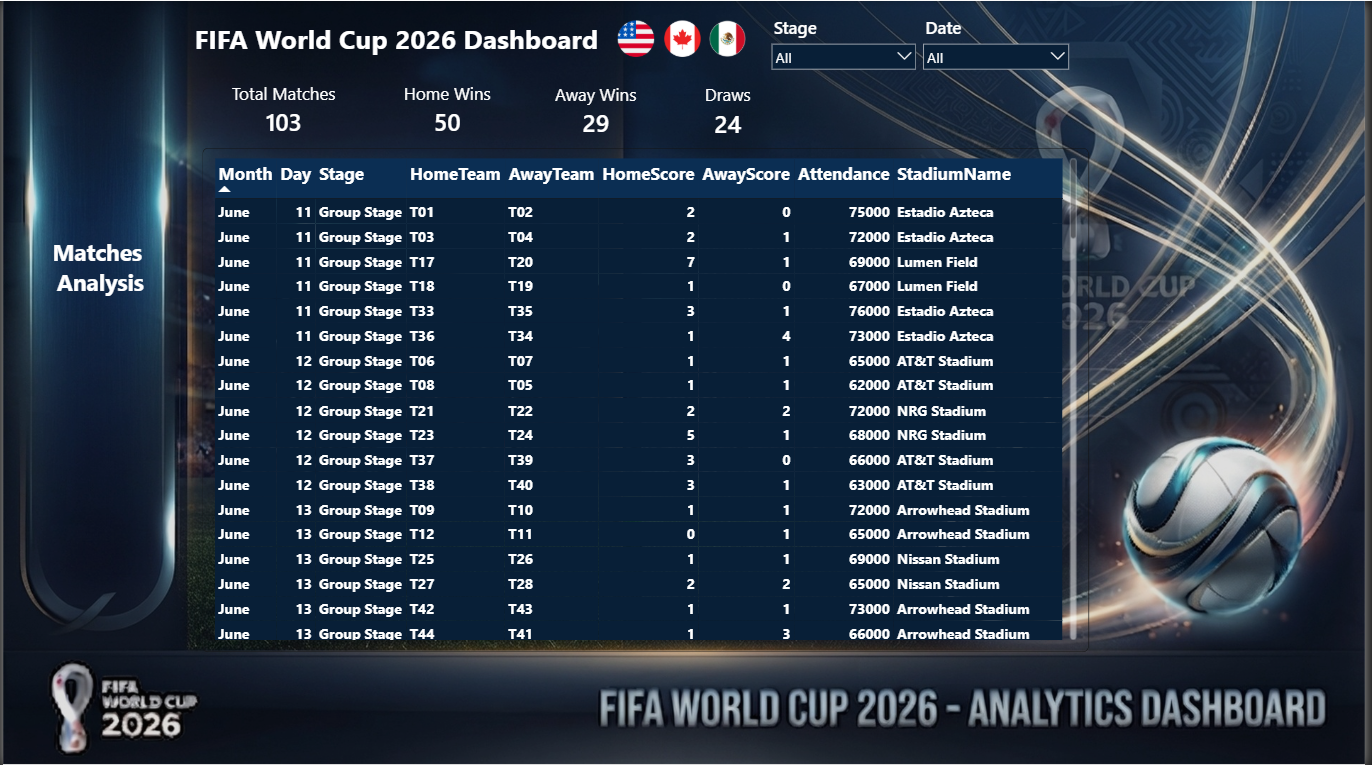

This screenshot's page, from the dashboard's own definition file:
{"tool":"powerbi","page":{"name":"Matches","canvas":[1920,1080],"ordinal":3},"visuals":[{"type":"textbox","box":[42.2,332.9,189.9,93.8],"z":0},{"type":"cardVisual","fields":{"Data":["Dax.Total Matches"]},"box":[281.3,100.8,229.8,103.2],"z":1000},{"type":"textbox","box":[260.2,28.1,600.2,72.7],"z":2000},{"type":"image","box":[860.4,28.1,63.3,51.6],"z":3000},{"type":"image","box":[926.1,28.1,63.3,51.6],"z":4000},{"type":"image","box":[989.4,28.1,63.3,51.6],"z":5000},{"type":"cardVisual","fields":{"Data":["Dax.Home Wins"]},"box":[511.1,100.8,229.8,103.2],"z":6000},{"type":"cardVisual","fields":{"Data":["Dax.Away Wins"]},"box":[712.7,100.8,246.2,105.5],"z":7000},{"type":"cardVisual","fields":{"Data":["Dax.Draws"]},"box":[897.9,103.2,246.2,103.2],"z":8000},{"type":"tableEx","fields":{"Values":["4_Matches.Date.Variation.Date Hierarchy.Month","4_Matches.Date.Variation.Date Hierarchy.Day","4_Matches.Stage","4_Matches.HomeTeamID","4_Matches.AwayTeamID","4_Matches.HomeScore","4_Matches.AwayScore","4_Matches.Attendance","3_Stadiums.StadiumName"]},"box":[281.3,206.3,1249.6,710.4],"z":9000},{"type":"slicer","fields":{"Values":["4_Matches.Stage"]},"box":[1078.5,21.1,213.3,79.7],"z":10000},{"type":"slicer","fields":{"Values":["4_Matches.Date"]},"box":[1291.8,21.1,215.7,79.7],"z":11000}]}

Visuals, with their boxes in screenshot pixels (x1, y1, x2, y2), scaled from the page's 1920x1080 canvas onto the 1372x765 screenshot:
textbox: <region>30, 236, 166, 302</region>
cardVisual - Dax.Total Matches: <region>201, 71, 365, 144</region>
textbox: <region>186, 20, 615, 71</region>
image: <region>615, 20, 660, 56</region>
image: <region>662, 20, 707, 56</region>
image: <region>707, 20, 752, 56</region>
cardVisual - Dax.Home Wins: <region>365, 71, 529, 144</region>
cardVisual - Dax.Away Wins: <region>509, 71, 685, 146</region>
cardVisual - Dax.Draws: <region>642, 73, 818, 146</region>
tableEx - 4_Matches.Date.Variation.Date Hierarchy.Month x 4_Matches.Date.Variation.Date Hierarchy.Day: <region>201, 146, 1094, 649</region>
slicer - 4_Matches.Stage: <region>771, 15, 923, 71</region>
slicer - 4_Matches.Date: <region>923, 15, 1077, 71</region>
